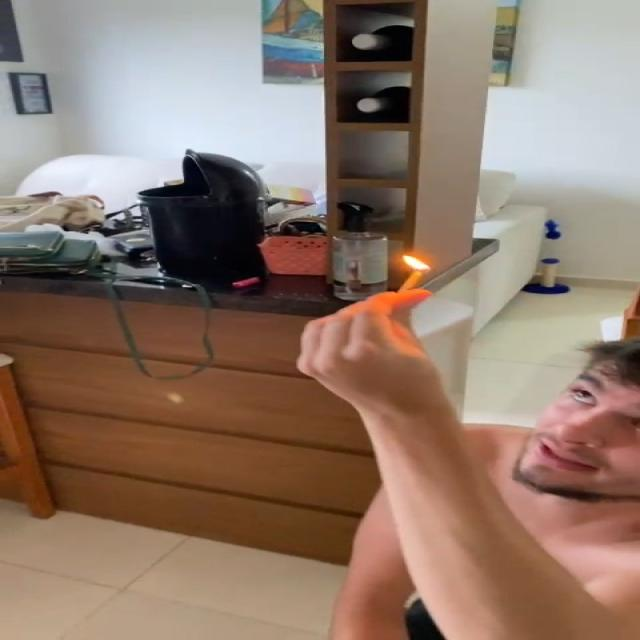fogo-ypXI: (401, 255, 434, 272)
